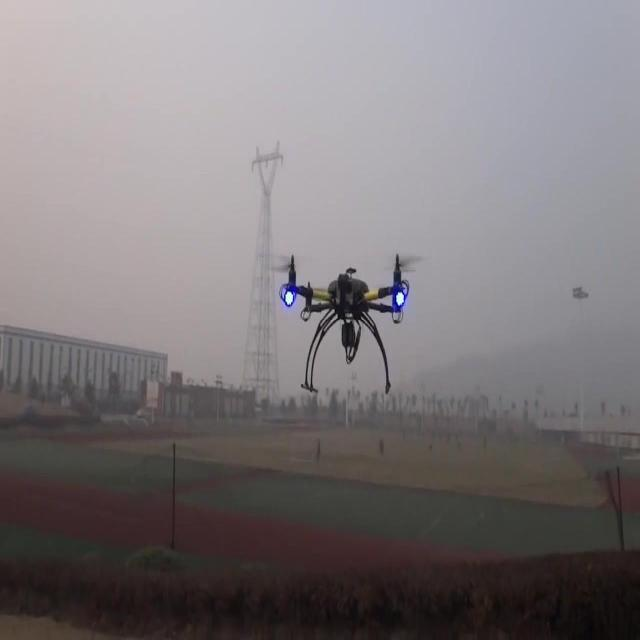drone: (272, 247, 416, 396)
